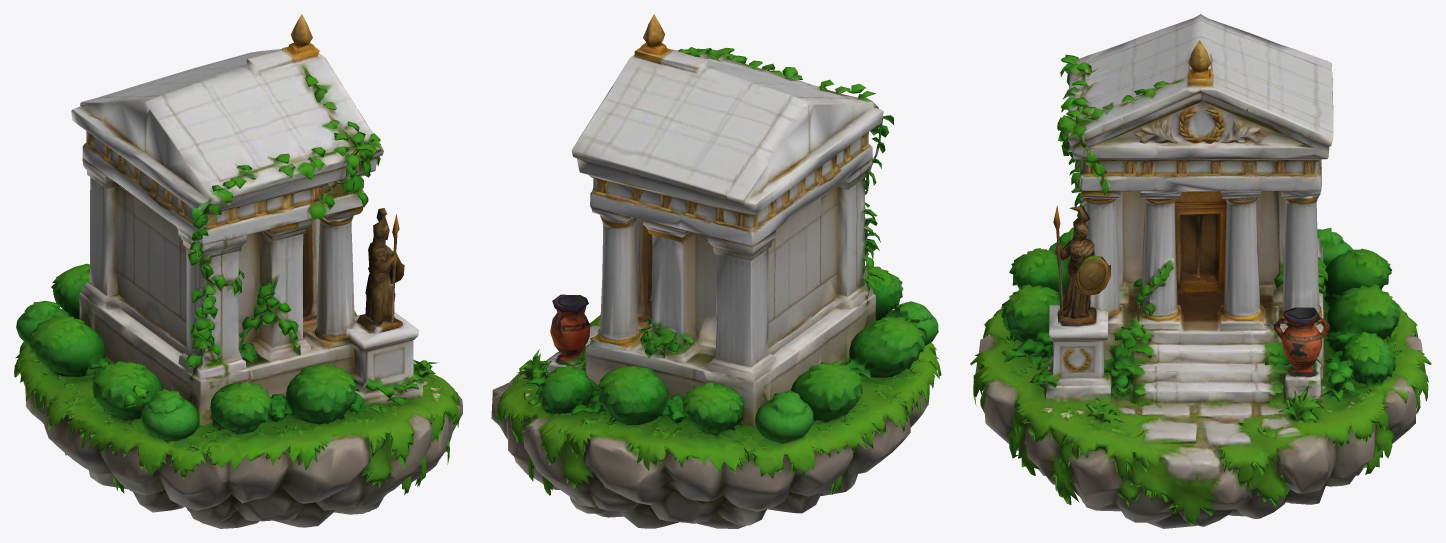
Rendered from history.glb.
The picture shows the model from 3 angles, left to right: view 1: azimuth 30°, elevation 25°; view 2: azimuth 150°, elevation 25°; view 3: azimuth 270°, elevation 25°; orthographic projection.
Visible parts, largest first — view 1: tripo_node_5d7b8637-b944-4728-b46b-519641f854ed; view 2: tripo_node_5d7b8637-b944-4728-b46b-519641f854ed; view 3: tripo_node_5d7b8637-b944-4728-b46b-519641f854ed.
Part boxes in pixels (<box>): tripo_node_5d7b8637-b944-4728-b46b-519641f854ed: <box>14,14,462,528</box>; tripo_node_5d7b8637-b944-4728-b46b-519641f854ed: <box>491,14,941,528</box>; tripo_node_5d7b8637-b944-4728-b46b-519641f854ed: <box>970,14,1431,528</box>.
Bounding box in the file's own units: 0.7873 × 0.9828 × 0.8686.
1 material, 1 textured.
